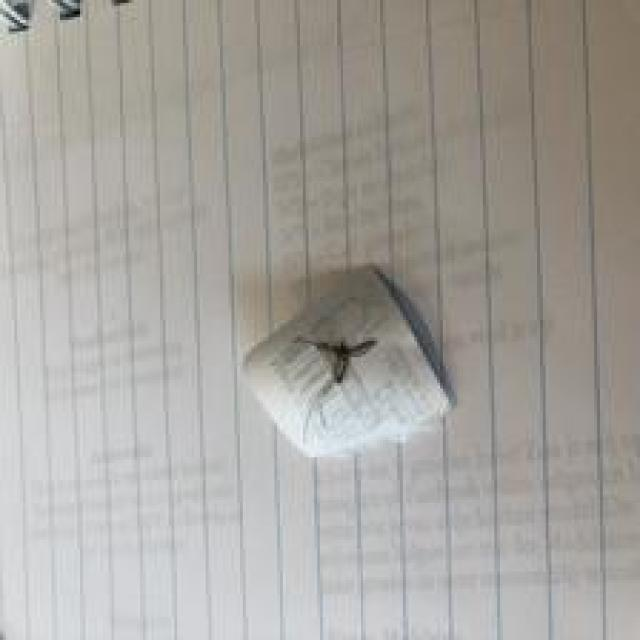Culex: (242, 262, 458, 458)
